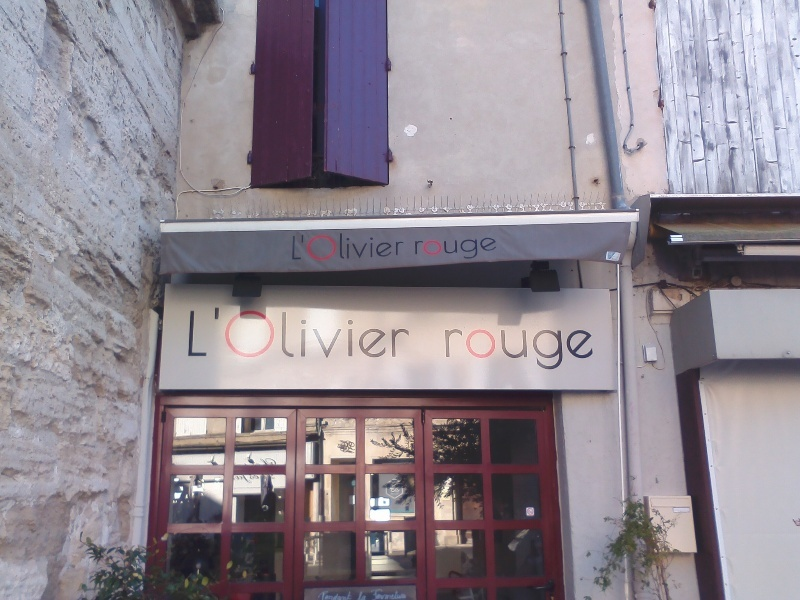text: (193, 306, 208, 361), (209, 306, 224, 361), (225, 306, 240, 361), (241, 306, 256, 361), (257, 306, 272, 361), (273, 306, 288, 361), (289, 306, 304, 361), (305, 306, 320, 361), (321, 306, 336, 361), (337, 306, 352, 361), (353, 306, 368, 361), (369, 306, 384, 361), (385, 306, 400, 361), (449, 327, 464, 372), (465, 327, 480, 372), (481, 327, 496, 372), (497, 327, 512, 372), (513, 327, 528, 372), (529, 327, 544, 372), (545, 327, 560, 372), (561, 327, 576, 372), (577, 327, 592, 372), (401, 306, 412, 361), (305, 232, 320, 263), (321, 232, 336, 263), (337, 232, 352, 263), (353, 232, 368, 263), (369, 232, 384, 263), (385, 232, 400, 263), (292, 232, 304, 263), (417, 237, 432, 261), (433, 237, 448, 261), (449, 237, 464, 261), (465, 237, 480, 261), (481, 237, 496, 261), (593, 327, 598, 372), (444, 327, 448, 372), (189, 306, 192, 361), (401, 232, 406, 263), (414, 237, 416, 261), (497, 237, 498, 261)
